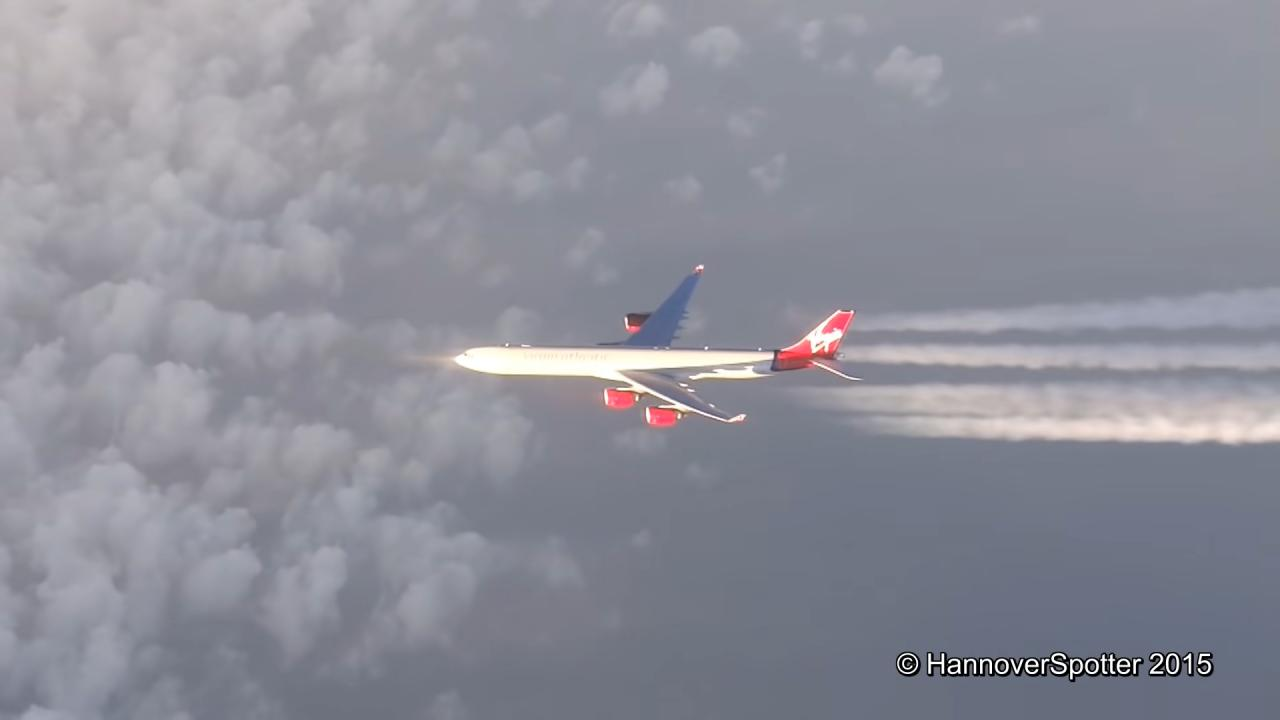Airplane: (434, 254, 874, 436)
